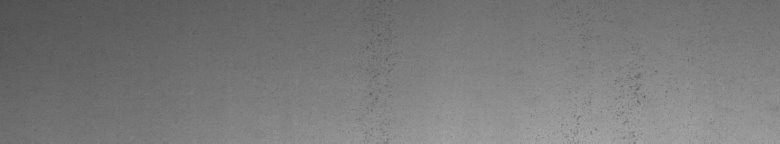ib: (574, 72, 646, 125)
